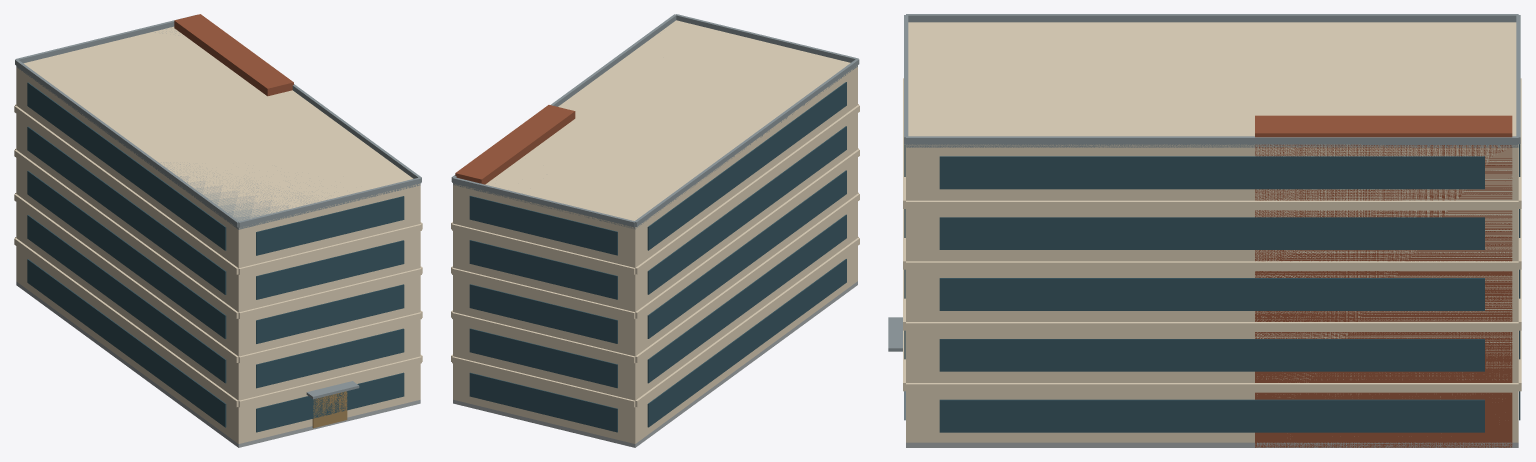
File: office-lowrise.glb
The picture shows the model from 3 angles, left to right: view 1: azimuth 30°, elevation 25°; view 2: azimuth 150°, elevation 25°; view 3: azimuth 270°, elevation 25°; orthographic projection. The views are drawn at different scales.
Parts seen in each view (by area): view 1: wall-envelope, opening-west-ribbon-04, opening-west-ribbon-01, opening-west-ribbon-03, opening-west-ribbon-05, opening-west-ribbon-02, opening-front-ribbon-02, opening-front-ribbon-05, opening-front-ribbon-03, opening-front-ribbon-04, brick-service-core, opening-front-ribbon-01 (+16 smaller); view 2: wall-envelope, opening-west-ribbon-01, opening-west-ribbon-02, opening-west-ribbon-03, opening-west-ribbon-04, opening-west-ribbon-05, opening-rear-ribbon-05, opening-rear-ribbon-02, opening-rear-ribbon-03, opening-rear-ribbon-04, opening-rear-ribbon-01, brick-service-core (+14 smaller); view 3: wall-envelope, brick-service-core, opening-east-ribbon-01, opening-east-ribbon-05, opening-east-ribbon-02, opening-east-ribbon-03, opening-east-ribbon-04, east-spandrel-04, east-spandrel-01, east-spandrel-02, east-spandrel-03, parapet-west (+5 smaller).
Boxes of the visible parts, x1=… form: wall-envelope: x1=16, y1=26, x2=420, y2=443; opening-west-ribbon-04: x1=27, y1=126, x2=226, y2=294; opening-west-ribbon-01: x1=27, y1=259, x2=226, y2=427; opening-west-ribbon-03: x1=27, y1=171, x2=226, y2=338; opening-west-ribbon-05: x1=27, y1=82, x2=226, y2=250; opening-west-ribbon-02: x1=27, y1=215, x2=226, y2=383; opening-front-ribbon-02: x1=256, y1=328, x2=404, y2=388; opening-front-ribbon-05: x1=256, y1=196, x2=404, y2=255; opening-front-ribbon-03: x1=256, y1=284, x2=404, y2=343; opening-front-ribbon-04: x1=256, y1=240, x2=404, y2=299; brick-service-core: x1=174, y1=14, x2=293, y2=96; opening-front-ribbon-01: x1=256, y1=372, x2=404, y2=432; wall-envelope: x1=453, y1=20, x2=857, y2=443; opening-west-ribbon-01: x1=647, y1=259, x2=846, y2=427; opening-west-ribbon-02: x1=647, y1=214, x2=846, y2=383; opening-west-ribbon-03: x1=647, y1=170, x2=846, y2=338; opening-west-ribbon-04: x1=647, y1=126, x2=846, y2=294; opening-west-ribbon-05: x1=647, y1=82, x2=846, y2=250; opening-rear-ribbon-05: x1=469, y1=195, x2=617, y2=255; opening-rear-ribbon-02: x1=469, y1=328, x2=617, y2=388; opening-rear-ribbon-03: x1=469, y1=284, x2=617, y2=343; opening-rear-ribbon-04: x1=469, y1=240, x2=617, y2=299; opening-rear-ribbon-01: x1=469, y1=372, x2=617, y2=432; brick-service-core: x1=455, y1=105, x2=575, y2=184; wall-envelope: x1=906, y1=22, x2=1518, y2=442; brick-service-core: x1=1255, y1=115, x2=1512, y2=447; opening-east-ribbon-01: x1=939, y1=399, x2=1484, y2=432; opening-east-ribbon-05: x1=939, y1=156, x2=1484, y2=189; opening-east-ribbon-02: x1=939, y1=339, x2=1484, y2=371; opening-east-ribbon-03: x1=939, y1=278, x2=1484, y2=310; opening-east-ribbon-04: x1=939, y1=217, x2=1484, y2=249; east-spandrel-04: x1=906, y1=200, x2=1518, y2=210; east-spandrel-01: x1=906, y1=383, x2=1518, y2=392; east-spandrel-02: x1=906, y1=322, x2=1518, y2=331; east-spandrel-03: x1=906, y1=261, x2=1518, y2=270; parapet-west: x1=906, y1=14, x2=1518, y2=22.
Bounding box in the file's own units: 14.1 × 16.55 × 30.2.
